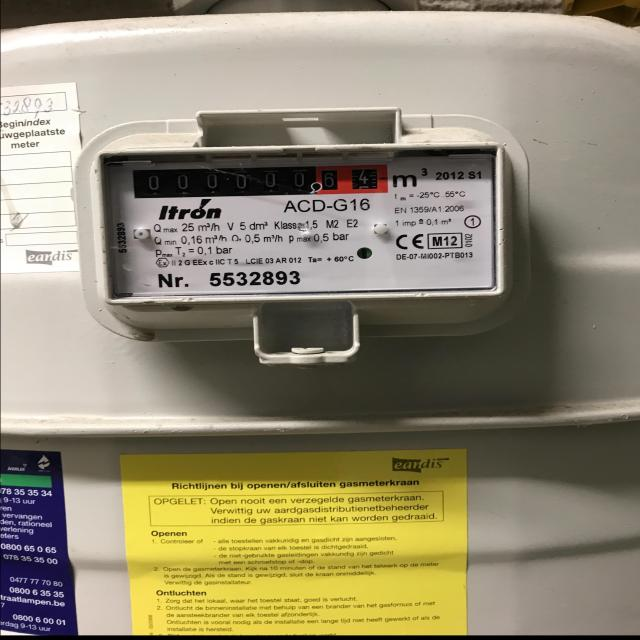gaz_meter: (93, 147, 507, 295)
indication: (130, 163, 386, 200)
